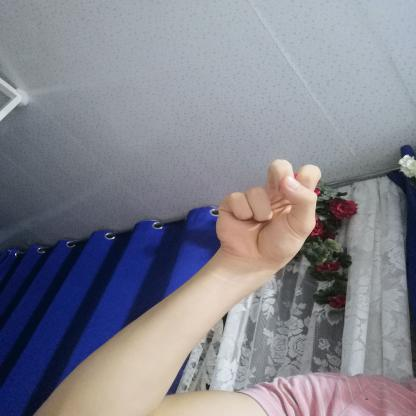QAAF: (202, 146, 328, 277)
